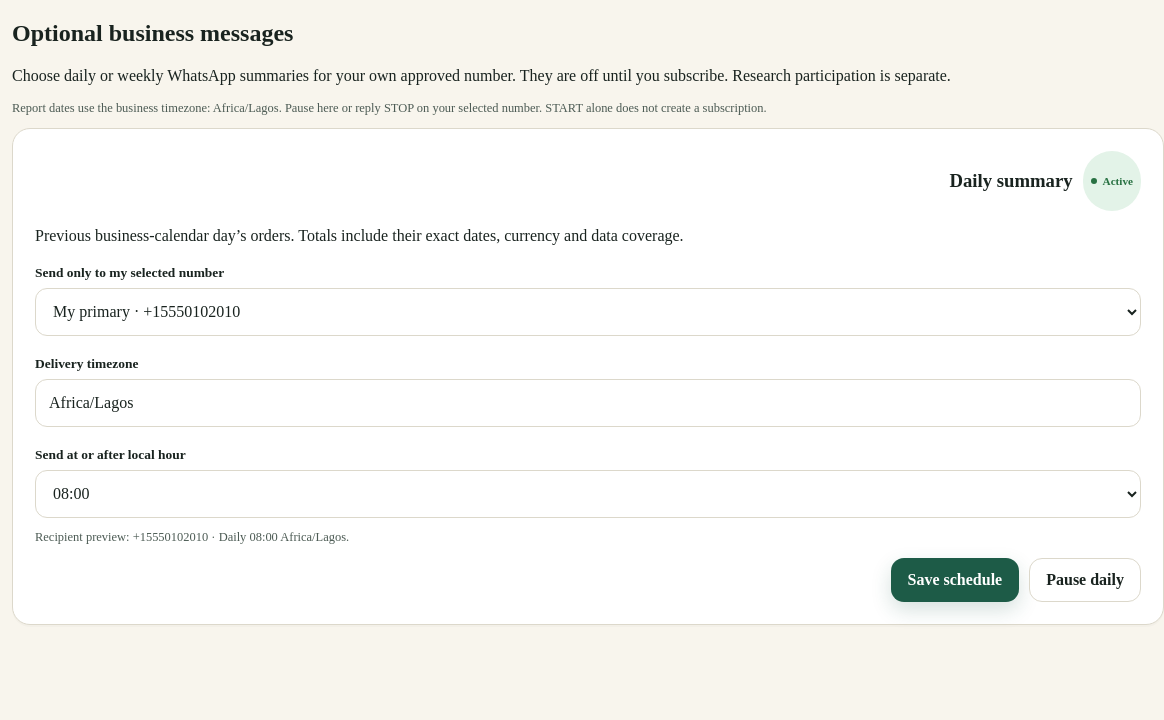
Scenario: optional business summary settings › pauses an active subscription with its revision and applies the server's paused state
Click the button "Pause daily" at (1085, 580), box [1029,558,1141,602]
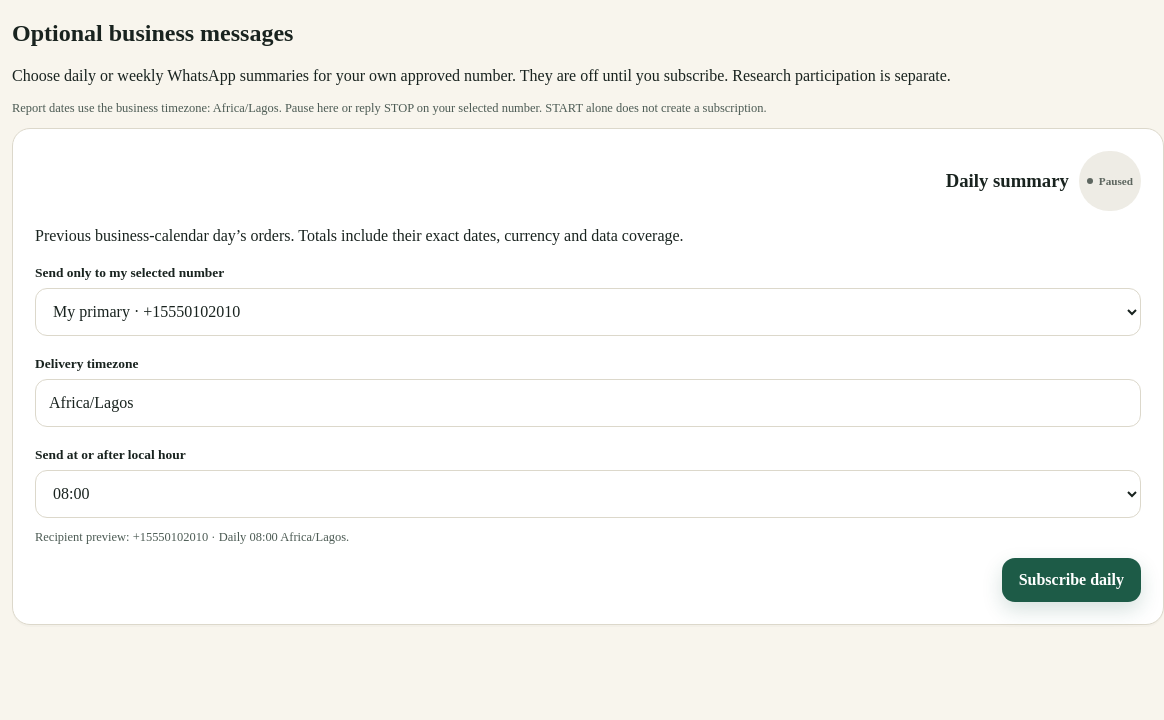
Now the text "Paused" is shown, box [1079,151,1141,211]
